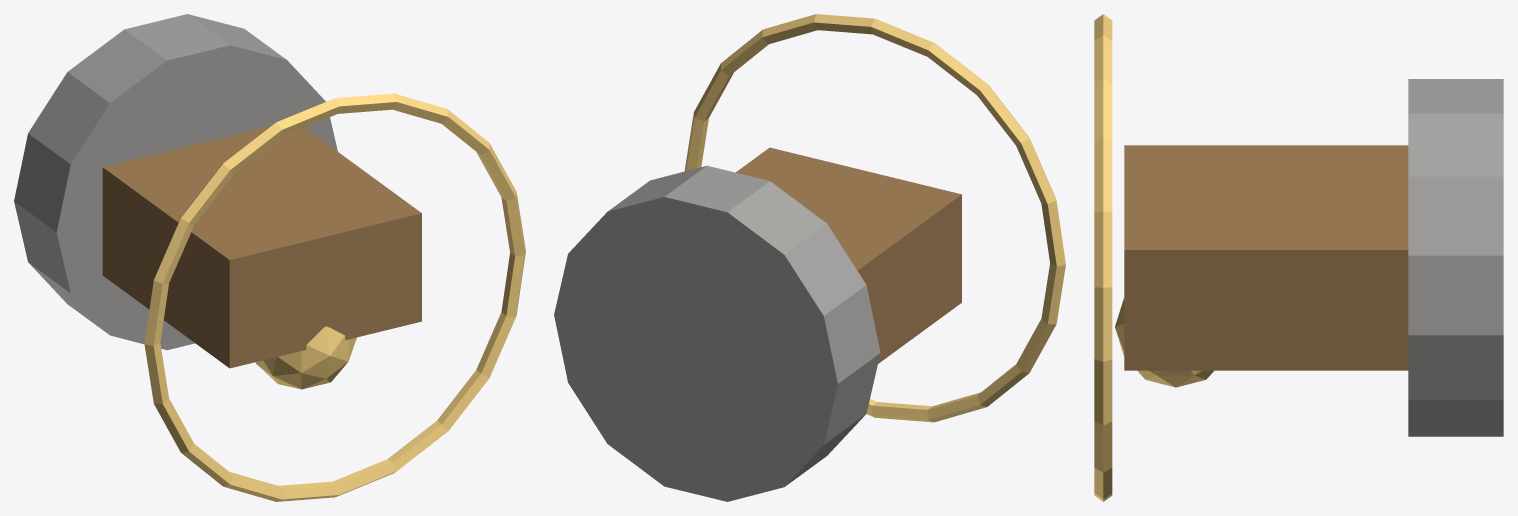
Rendered from 01_vendor_counter_terminal.glb.
The picture shows the model from 3 angles, left to right: view 1: azimuth 30°, elevation 25°; view 2: azimuth 150°, elevation 25°; view 3: azimuth 270°, elevation 25°; orthographic projection. The views are drawn at different scales.
Visible parts, largest first — view 1: control_or_relic_body, interaction_base, objective_ring, activation_core; view 2: interaction_base, control_or_relic_body, objective_ring; view 3: control_or_relic_body, interaction_base, objective_ring, activation_core.
Boxes of the visible parts, x1,y1,x2,y2 form: control_or_relic_body: (102, 126, 421, 368); interaction_base: (14, 14, 337, 350); objective_ring: (144, 93, 525, 501); activation_core: (255, 326, 356, 389); interaction_base: (554, 165, 880, 501); control_or_relic_body: (736, 147, 961, 363); objective_ring: (684, 14, 1065, 422); control_or_relic_body: (1124, 145, 1408, 370); interaction_base: (1408, 79, 1503, 436); objective_ring: (1094, 14, 1112, 501); activation_core: (1115, 298, 1213, 387).
Bounding box in the file's own units: 1.29 × 1.29 × 1.07.
